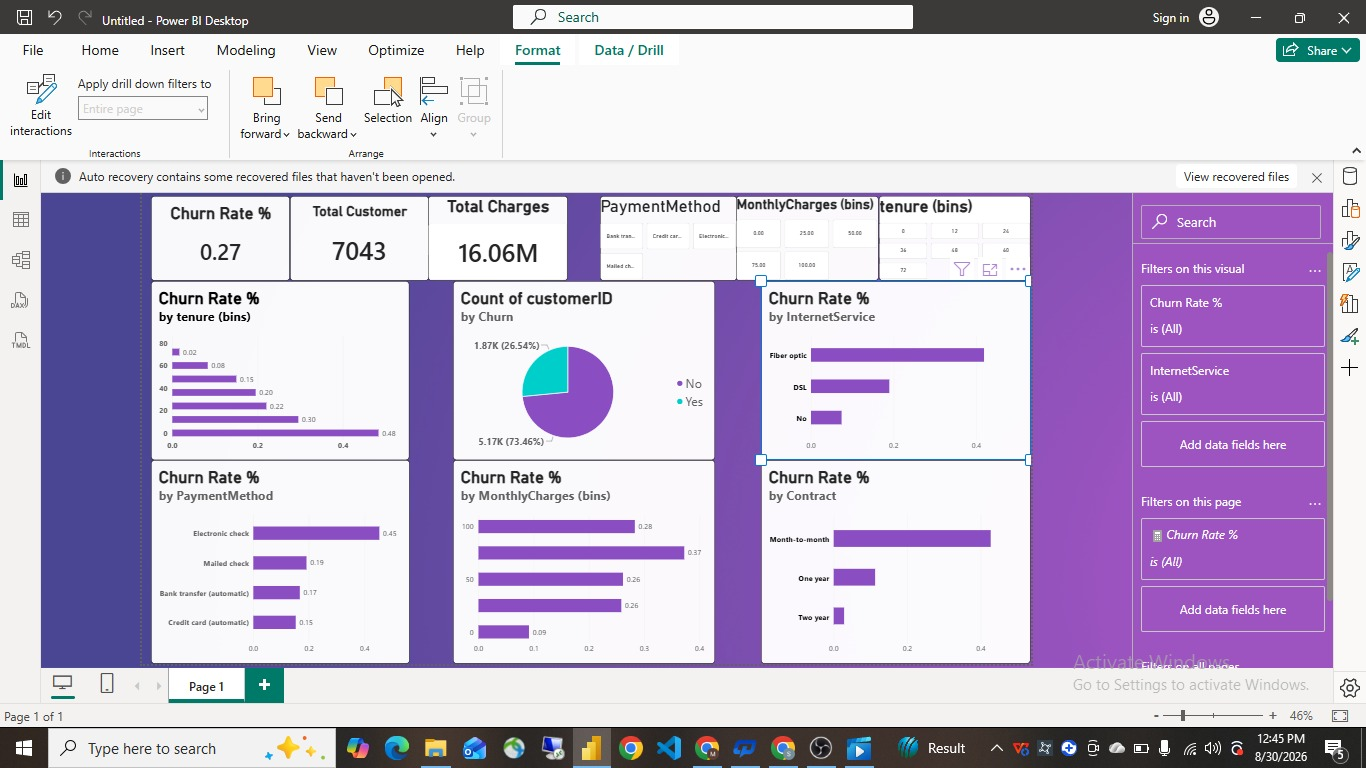

The dashboard page shown, as its layout file describes it:
{"tool":"powerbi","page":{"name":"Page 1","canvas":[1920,1080],"ordinal":0},"visuals":[{"type":"barChart","fields":{"Category":["Telco-Customer-Churn-Cleaned.Contract"],"Y":["Telco-Customer-Churn-Cleaned.Churn Rate %"]},"box":[1337.9,640,582.1,439.8],"z":0},{"type":"barChart","fields":{"Category":["Telco-Customer-Churn-Cleaned.tenure (bins)"],"Y":["Telco-Customer-Churn-Cleaned.Churn Rate %"]},"box":[18.4,252.8,558.4,387.2],"z":1000},{"type":"barChart","fields":{"Category":["Telco-Customer-Churn-Cleaned.PaymentMethod"],"Y":["Telco-Customer-Churn-Cleaned.Churn Rate %"]},"box":[19.1,639.9,559.1,440.1],"z":2000},{"type":"actionButton","box":[0,0,100,40],"z":3000},{"type":"card","title":"Churn Rate %","fields":{"Values":["Telco-Customer-Churn-Cleaned.Churn Rate %"]},"box":[19.1,70.2,299.8,182.8],"z":4000},{"type":"card","title":"Total Customer","fields":{"Values":["CountNonNull(Telco-Customer-Churn-Cleaned.customerID)"]},"box":[318.9,70.2,299.8,182.8],"z":5000},{"type":"barChart","fields":{"Category":["Telco-Customer-Churn-Cleaned.InternetService"],"Y":["Telco-Customer-Churn-Cleaned.Churn Rate %"]},"box":[1337.9,252.8,582.1,387.2],"z":6000},{"type":"barChart","fields":{"Category":["Telco-Customer-Churn-Cleaned.MonthlyCharges (bins)"],"Y":["Telco-Customer-Churn-Cleaned.Churn Rate %"]},"box":[671.8,639.9,565.5,440.1],"z":7000},{"type":"pieChart","fields":{"Category":["Telco-Customer-Churn-Cleaned.Churn"],"Y":["CountNonNull(Telco-Customer-Churn-Cleaned.customerID)"]},"box":[671.6,252.8,566.3,387.2],"z":8000},{"type":"cardVisual","title":"Total Charges","fields":{"Data":["Sum(Telco-Customer-Churn-Cleaned.TotalCharges)"]},"box":[618.7,70.2,301.9,182.8],"z":9000},{"type":"advancedSlicerVisual","fields":{"Values":["Telco-Customer-Churn-Cleaned.tenure (bins)"]},"box":[1592.4,70.2,327.4,182.8],"z":11000},{"type":"advancedSlicerVisual","fields":{"Values":["Telco-Customer-Churn-Cleaned.PaymentMethod"]},"box":[988.6,70.2,295.5,182.8],"z":12000},{"type":"advancedSlicerVisual","fields":{"Values":["Telco-Customer-Churn-Cleaned.MonthlyCharges (bins)"]},"box":[1284.1,70.2,308.3,182.8],"z":12001}]}

Visuals, with their boxes on the page's 1920x1080 design canvas (x1, y1, x2, y2). These are canvas units, not pixel positions in the 1366x768 screenshot, which may show the page scaled, cropped or inside an application window:
barChart - Telco-Customer-Churn-Cleaned.Contract x Telco-Customer-Churn-Cleaned.Churn Rate %: 1338:640:1920:1080
barChart - Telco-Customer-Churn-Cleaned.tenure (bins) x Telco-Customer-Churn-Cleaned.Churn Rate %: 18:253:577:640
barChart - Telco-Customer-Churn-Cleaned.PaymentMethod x Telco-Customer-Churn-Cleaned.Churn Rate %: 19:640:578:1080
actionButton: 0:0:100:40
"Churn Rate %" card: 19:70:319:253
"Total Customer" card: 319:70:619:253
barChart - Telco-Customer-Churn-Cleaned.InternetService x Telco-Customer-Churn-Cleaned.Churn Rate %: 1338:253:1920:640
barChart - Telco-Customer-Churn-Cleaned.MonthlyCharges (bins) x Telco-Customer-Churn-Cleaned.Churn Rate %: 672:640:1237:1080
pieChart - Telco-Customer-Churn-Cleaned.Churn x CountNonNull(Telco-Customer-Churn-Cleaned.customerID): 672:253:1238:640
"Total Charges" cardVisual: 619:70:921:253
advancedSlicerVisual - Telco-Customer-Churn-Cleaned.tenure (bins): 1592:70:1920:253
advancedSlicerVisual - Telco-Customer-Churn-Cleaned.PaymentMethod: 989:70:1284:253
advancedSlicerVisual - Telco-Customer-Churn-Cleaned.MonthlyCharges (bins): 1284:70:1592:253
